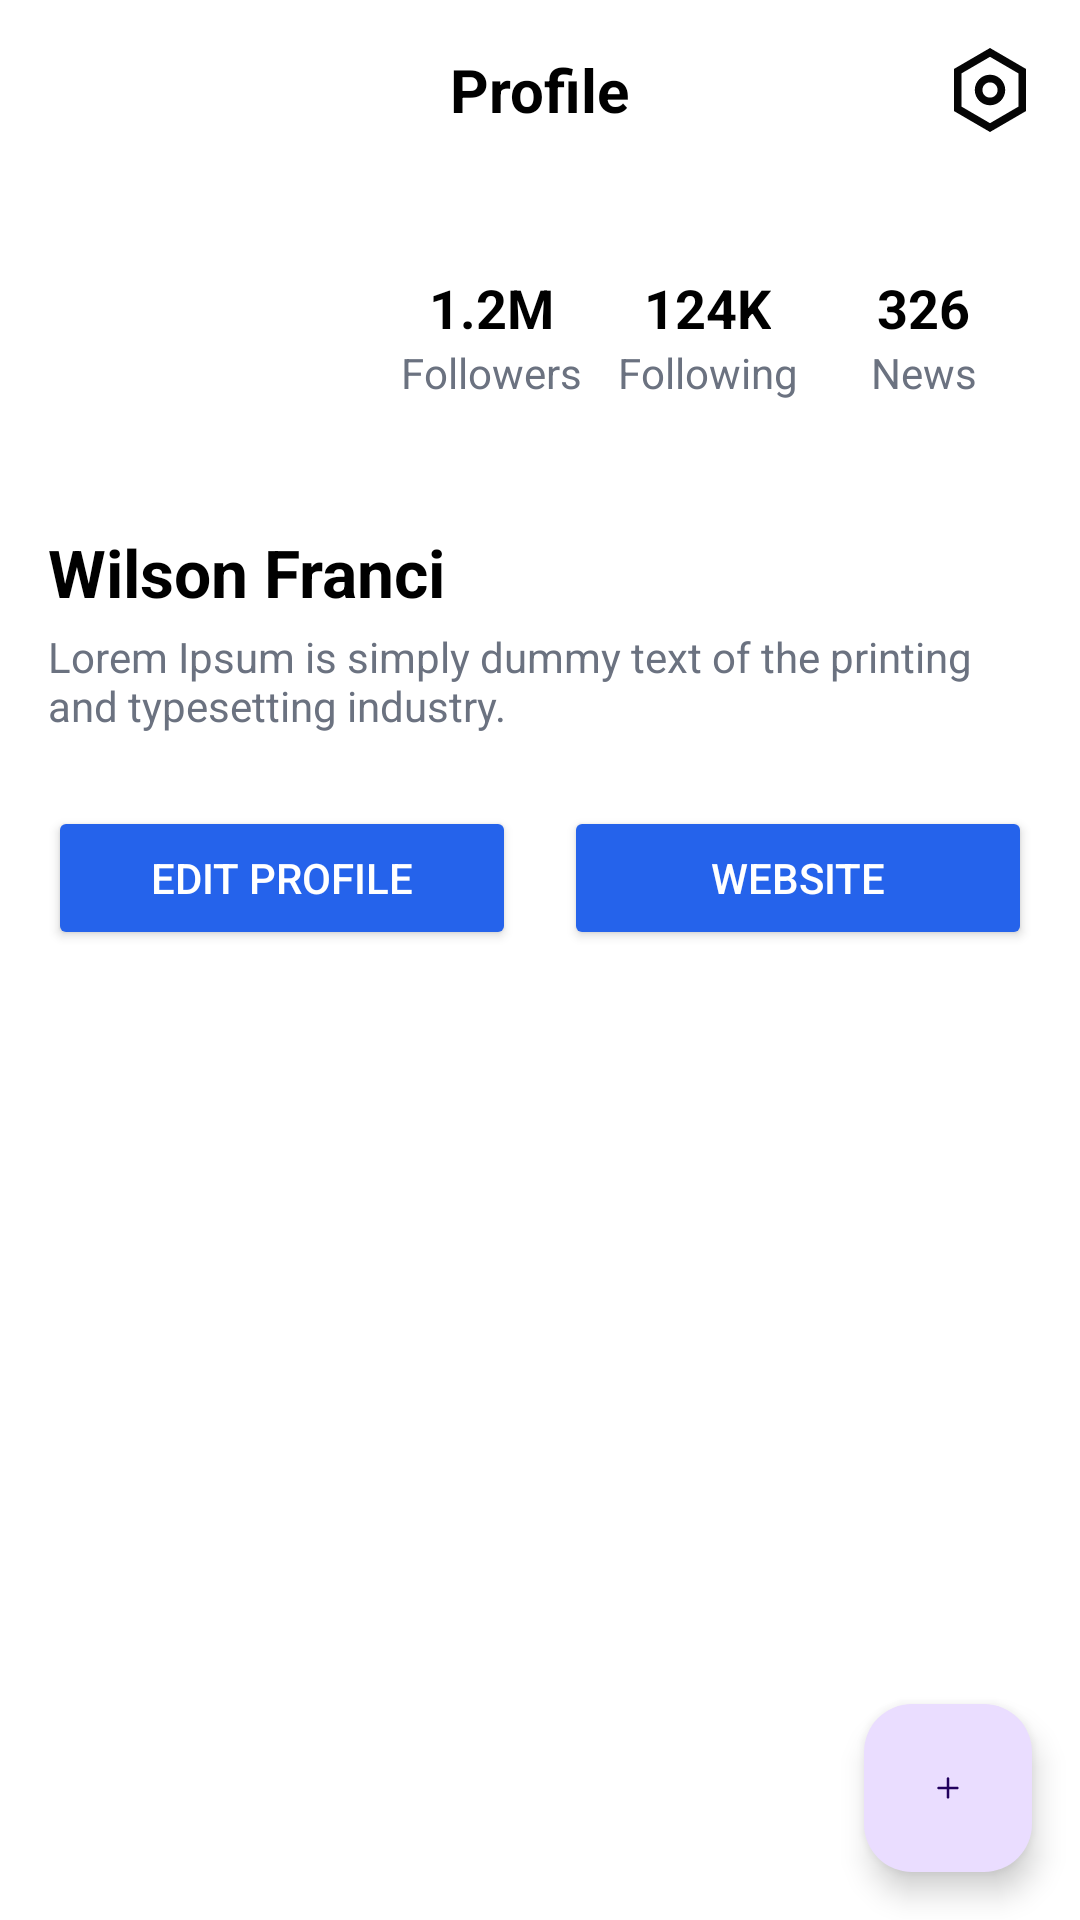

Screen size 1080 x 1920. Icon name, then its center in pixels as (x,y):
add: (948,1788)
settting: (990,90)
